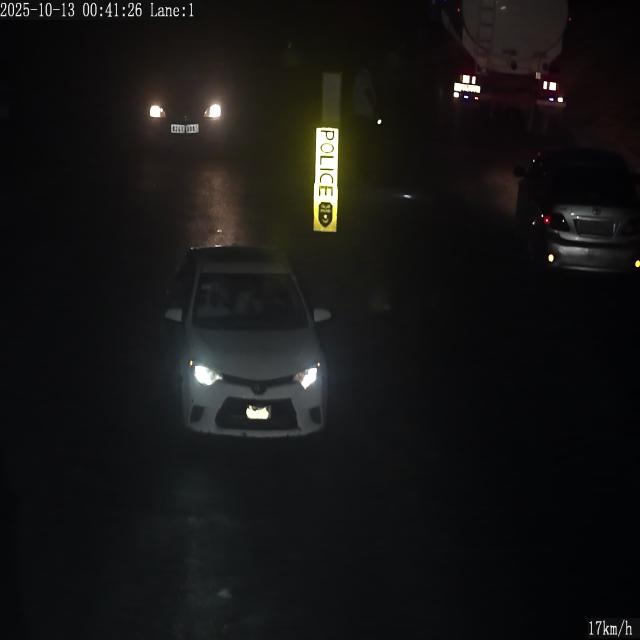BUS: (246, 406, 270, 419), (185, 124, 198, 133), (171, 125, 185, 133)
